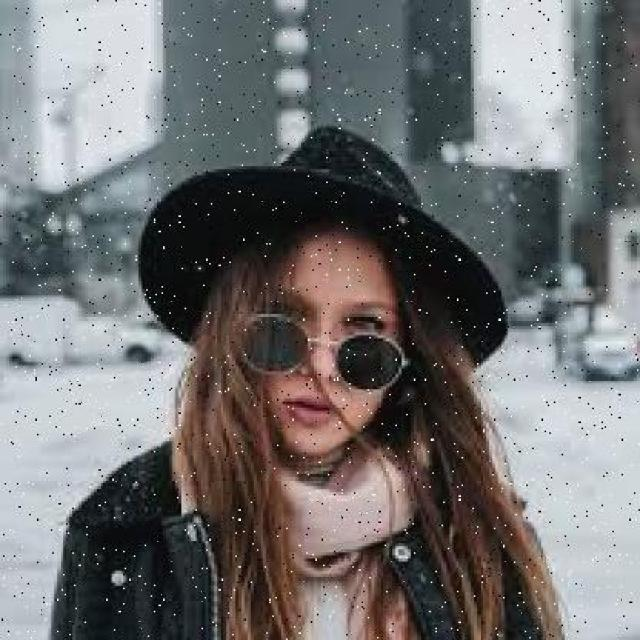glasses: (221, 290, 417, 410)
